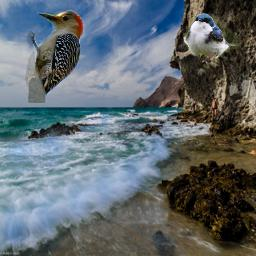Swallow: (183, 13, 241, 64)
Woodpecker: (25, 6, 96, 103)
